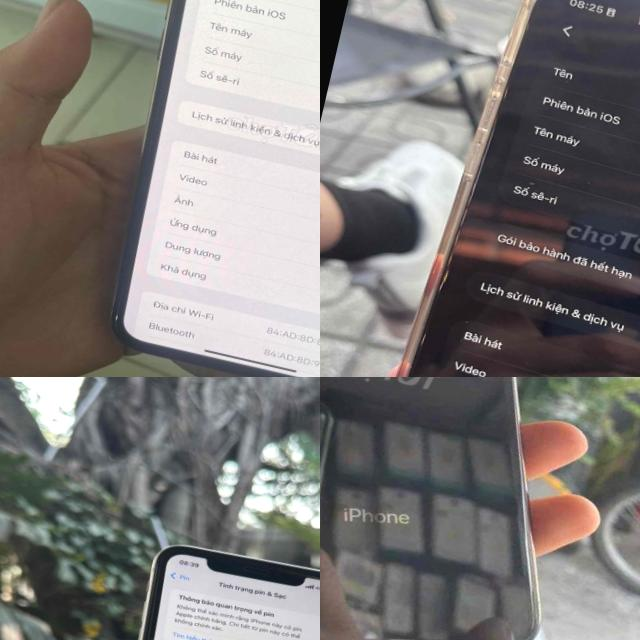gen_11: (72, 0, 320, 377)
gen_15: (352, 0, 640, 377)
gen_x_xs: (320, 377, 640, 640), (139, 545, 320, 640)
